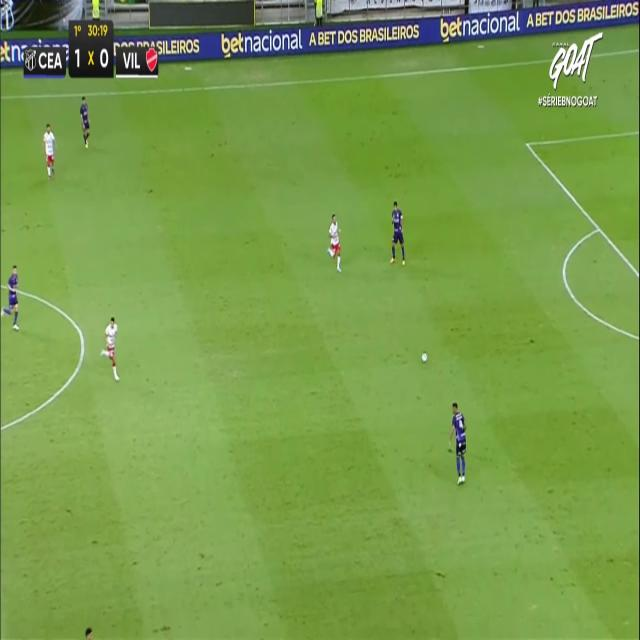ball: (421, 352, 427, 363)
player: (448, 401, 466, 484), (0, 264, 20, 330), (104, 316, 120, 381), (390, 200, 406, 265), (327, 213, 341, 272), (43, 123, 55, 180), (80, 95, 90, 149)
